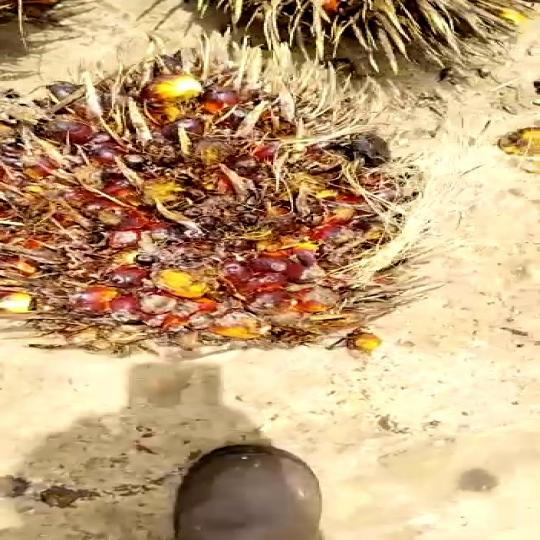terlalu masak: (0, 49, 439, 394)
